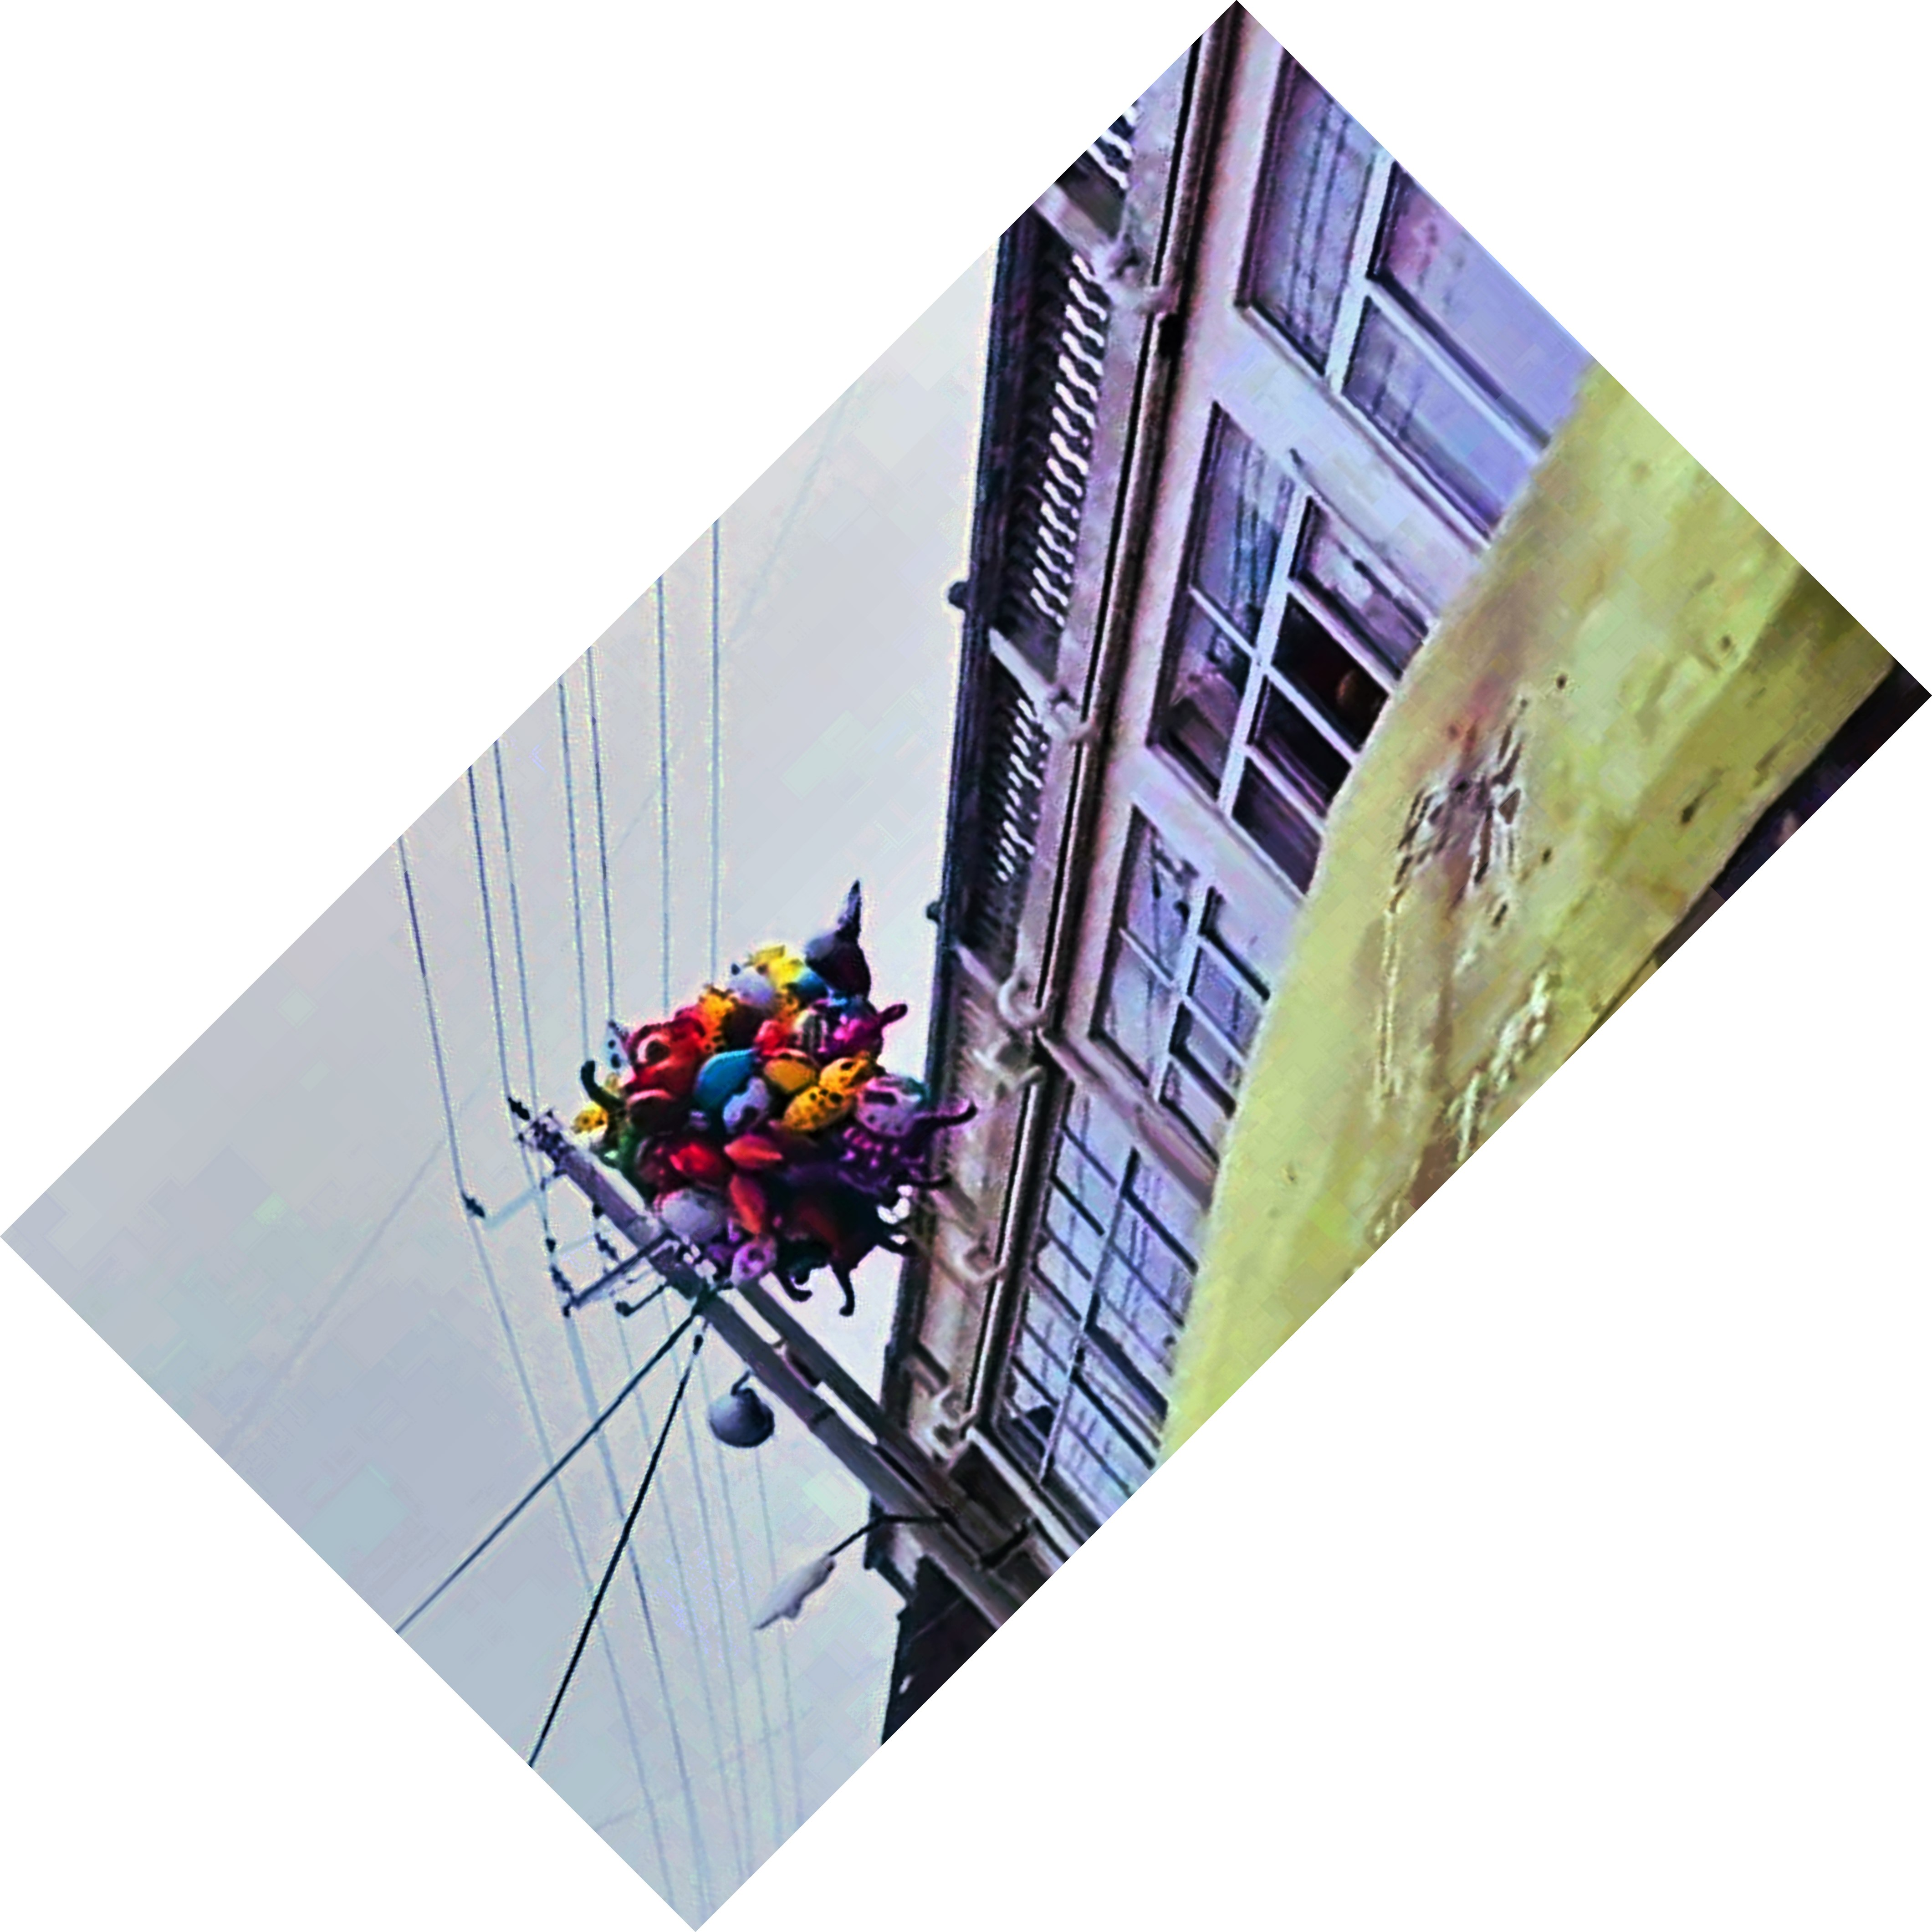wire foreign body: (515, 881, 1005, 1323)
